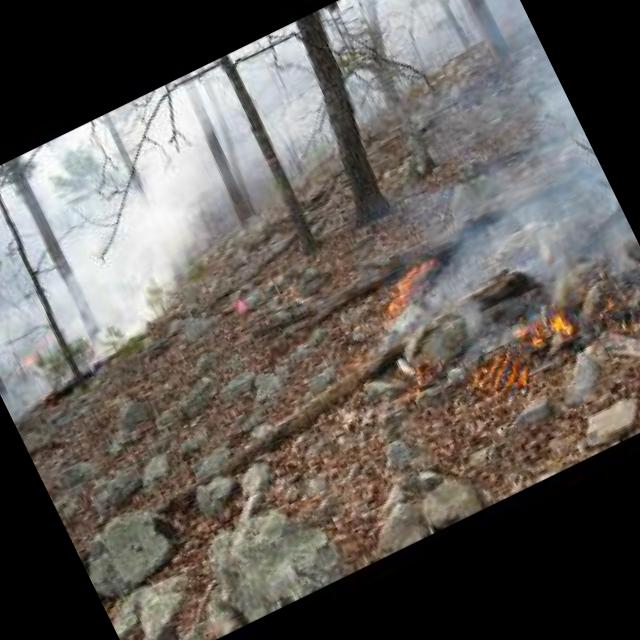fire: (454, 290, 594, 406), (364, 246, 459, 324)
smoke: (401, 0, 640, 323)
